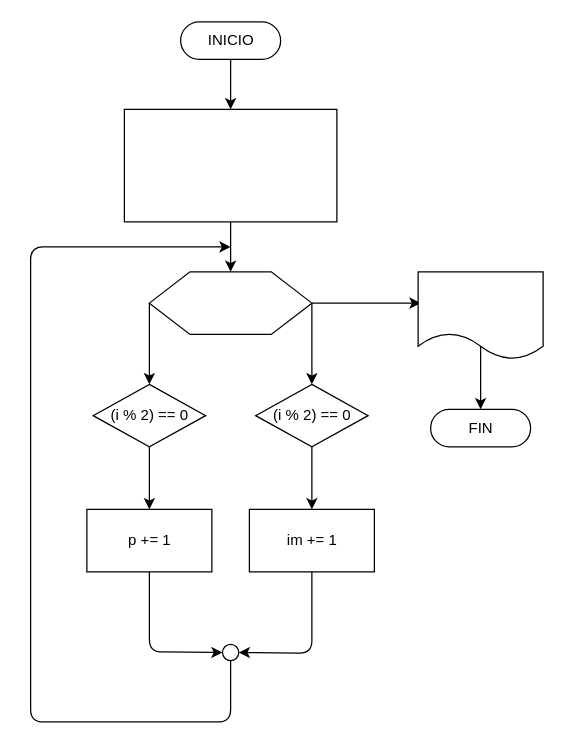
Some shapes in this 565 by 754 pixel diagram are drawn without their labels. Here are the shapes that lost their labels. From the top down, the centre of each, then its label:
At point (230, 165): "lista = random.randint(1,1000) y = lista p = 0 im = 0 z = y + 1".
At point (230, 302): "for i in range (1,z)".
At point (480, 315): "p im".
